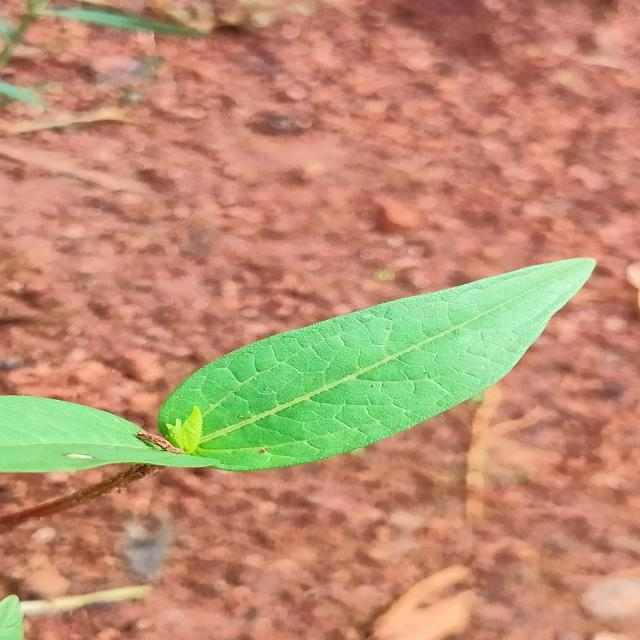Black gram_healthy: (170, 256, 596, 469)
